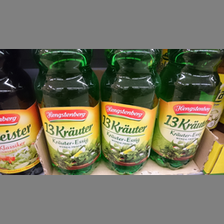vinegar: (35, 50, 102, 175), (150, 49, 218, 166), (101, 50, 158, 175), (1, 51, 43, 176)
